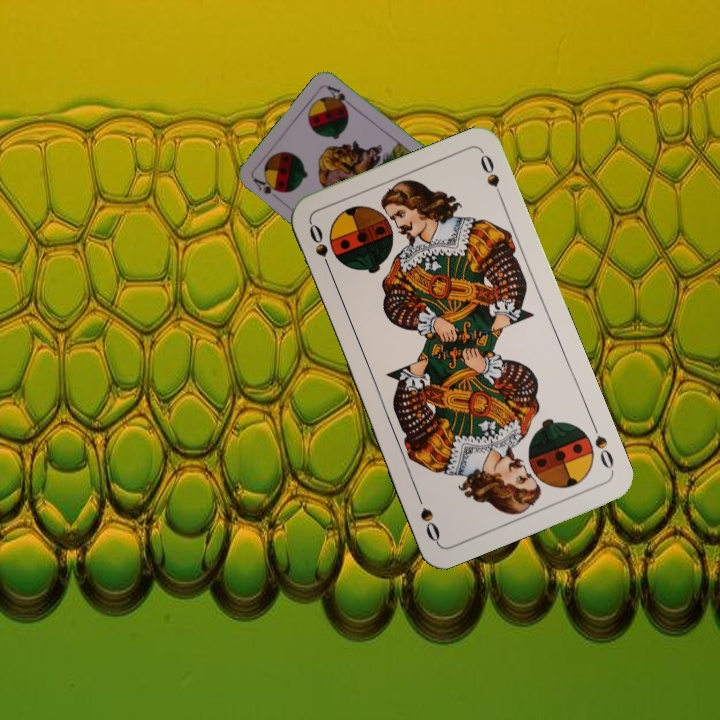SA: (249, 174, 284, 204)
SO: (587, 418, 617, 475), (305, 219, 335, 275)
